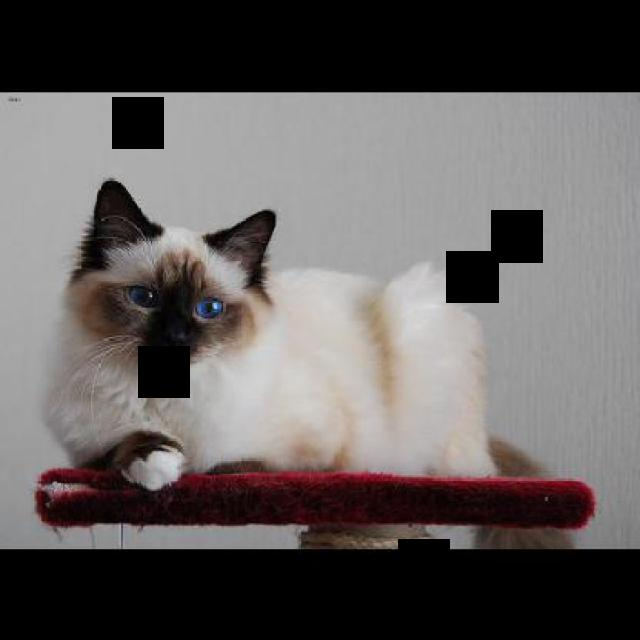unauthorized: (41, 177, 577, 549)
